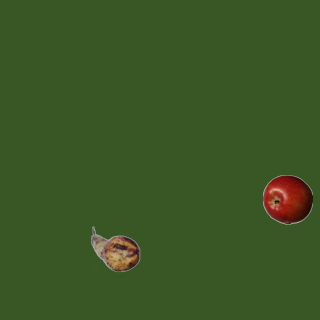Apple Braeburn: (262, 174, 312, 224)
Pear Abate: (90, 224, 140, 274)
